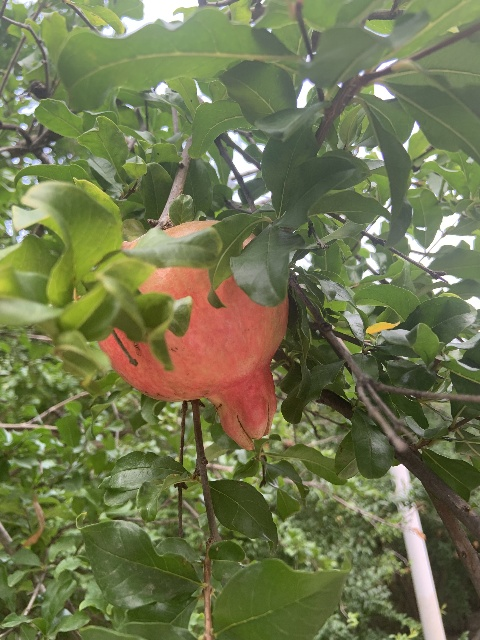ripe: (93, 220, 288, 450)
